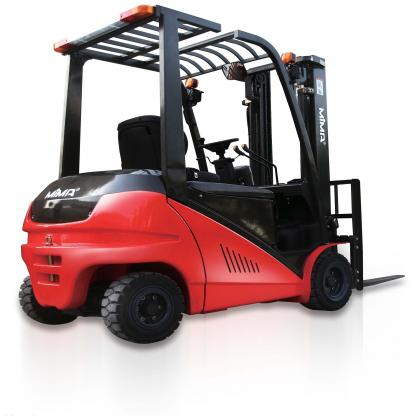forklift: (16, 4, 369, 345)
